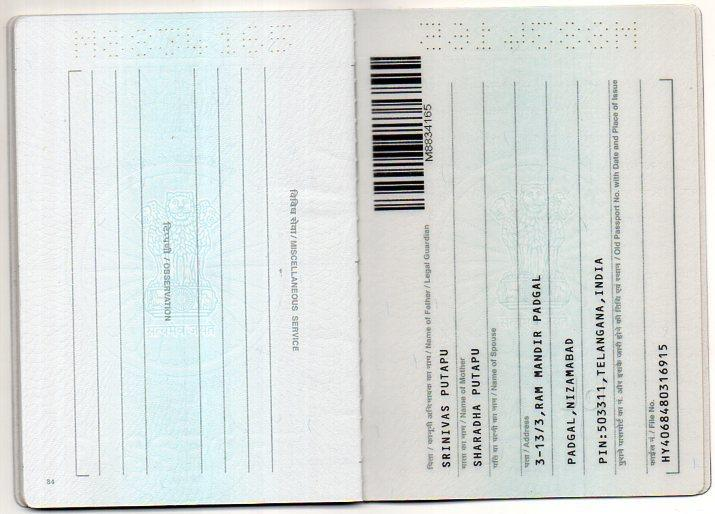File_no: (656, 336, 677, 472)
address: (529, 245, 613, 471)
father_name: (433, 335, 460, 472)
mother_name: (466, 342, 493, 476)
passport_no: (419, 96, 441, 164)
